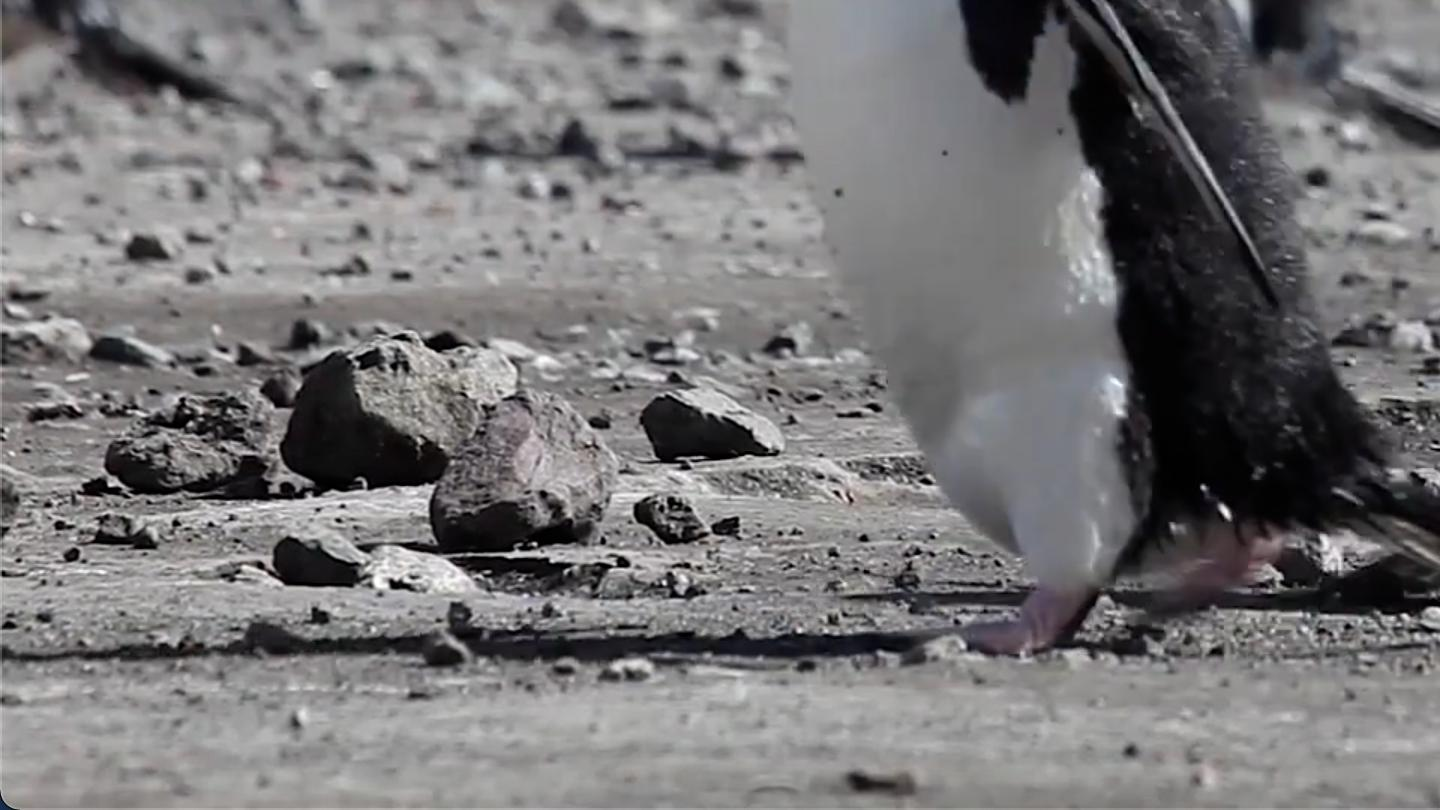Chinstrap Penguin: (641, 0, 1419, 621), (986, 0, 1419, 50)
